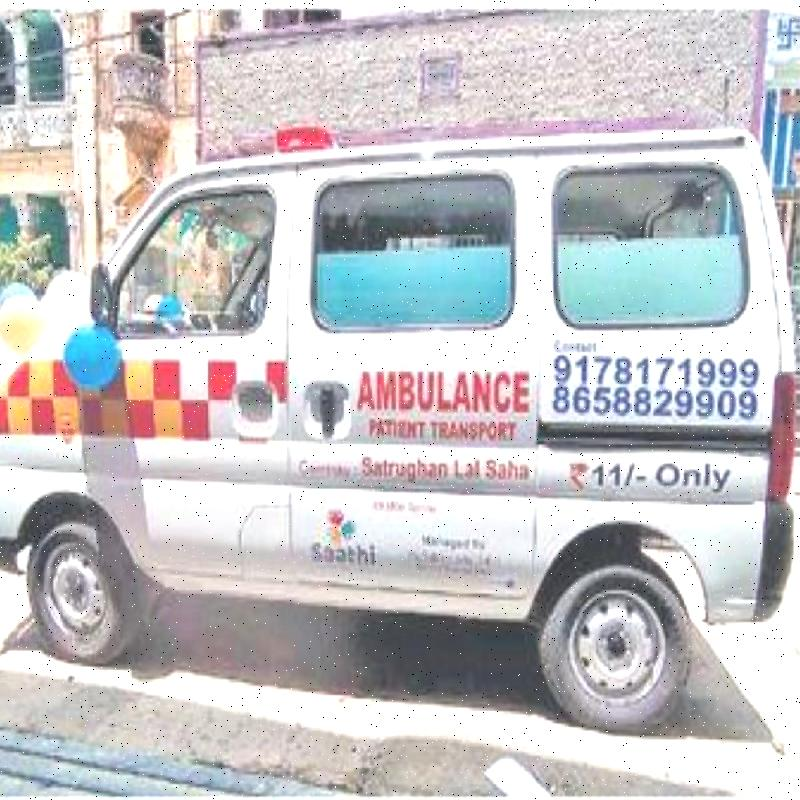ambulance: (0, 100, 800, 737)
